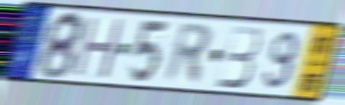5: (125, 18, 173, 85)
8: (37, 9, 87, 81)
9: (264, 29, 301, 92)
B: (214, 24, 263, 91)
H: (71, 14, 128, 81)
R: (162, 20, 214, 87)
